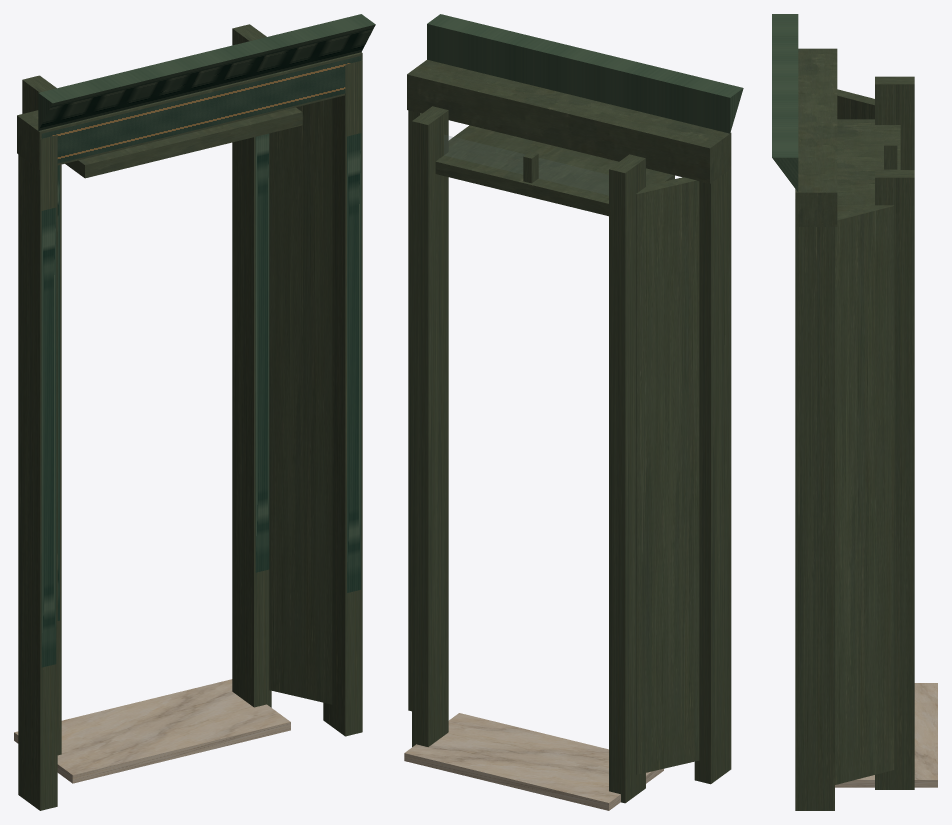
Rendered from city1880-shop-entry.gltf.
3 views of the same model, side by side, from view 1: azimuth 30°, elevation 25°; view 2: azimuth 150°, elevation 25°; view 3: azimuth 270°, elevation 25° (orthographic). The views are drawn at different scales.
Visible parts, largest first — view 1: Storefront recessed entrance; view 2: Storefront recessed entrance; view 3: Storefront recessed entrance.
Part boxes in pixels (box(x1,y1,x2,y2)): Storefront recessed entrance: box(14, 14, 375, 810); Storefront recessed entrance: box(404, 14, 743, 810); Storefront recessed entrance: box(772, 14, 937, 810).
Size of the model in its own units: 1 by 2.12 by 0.488.
Materials: 3 (2 with a texture image).
